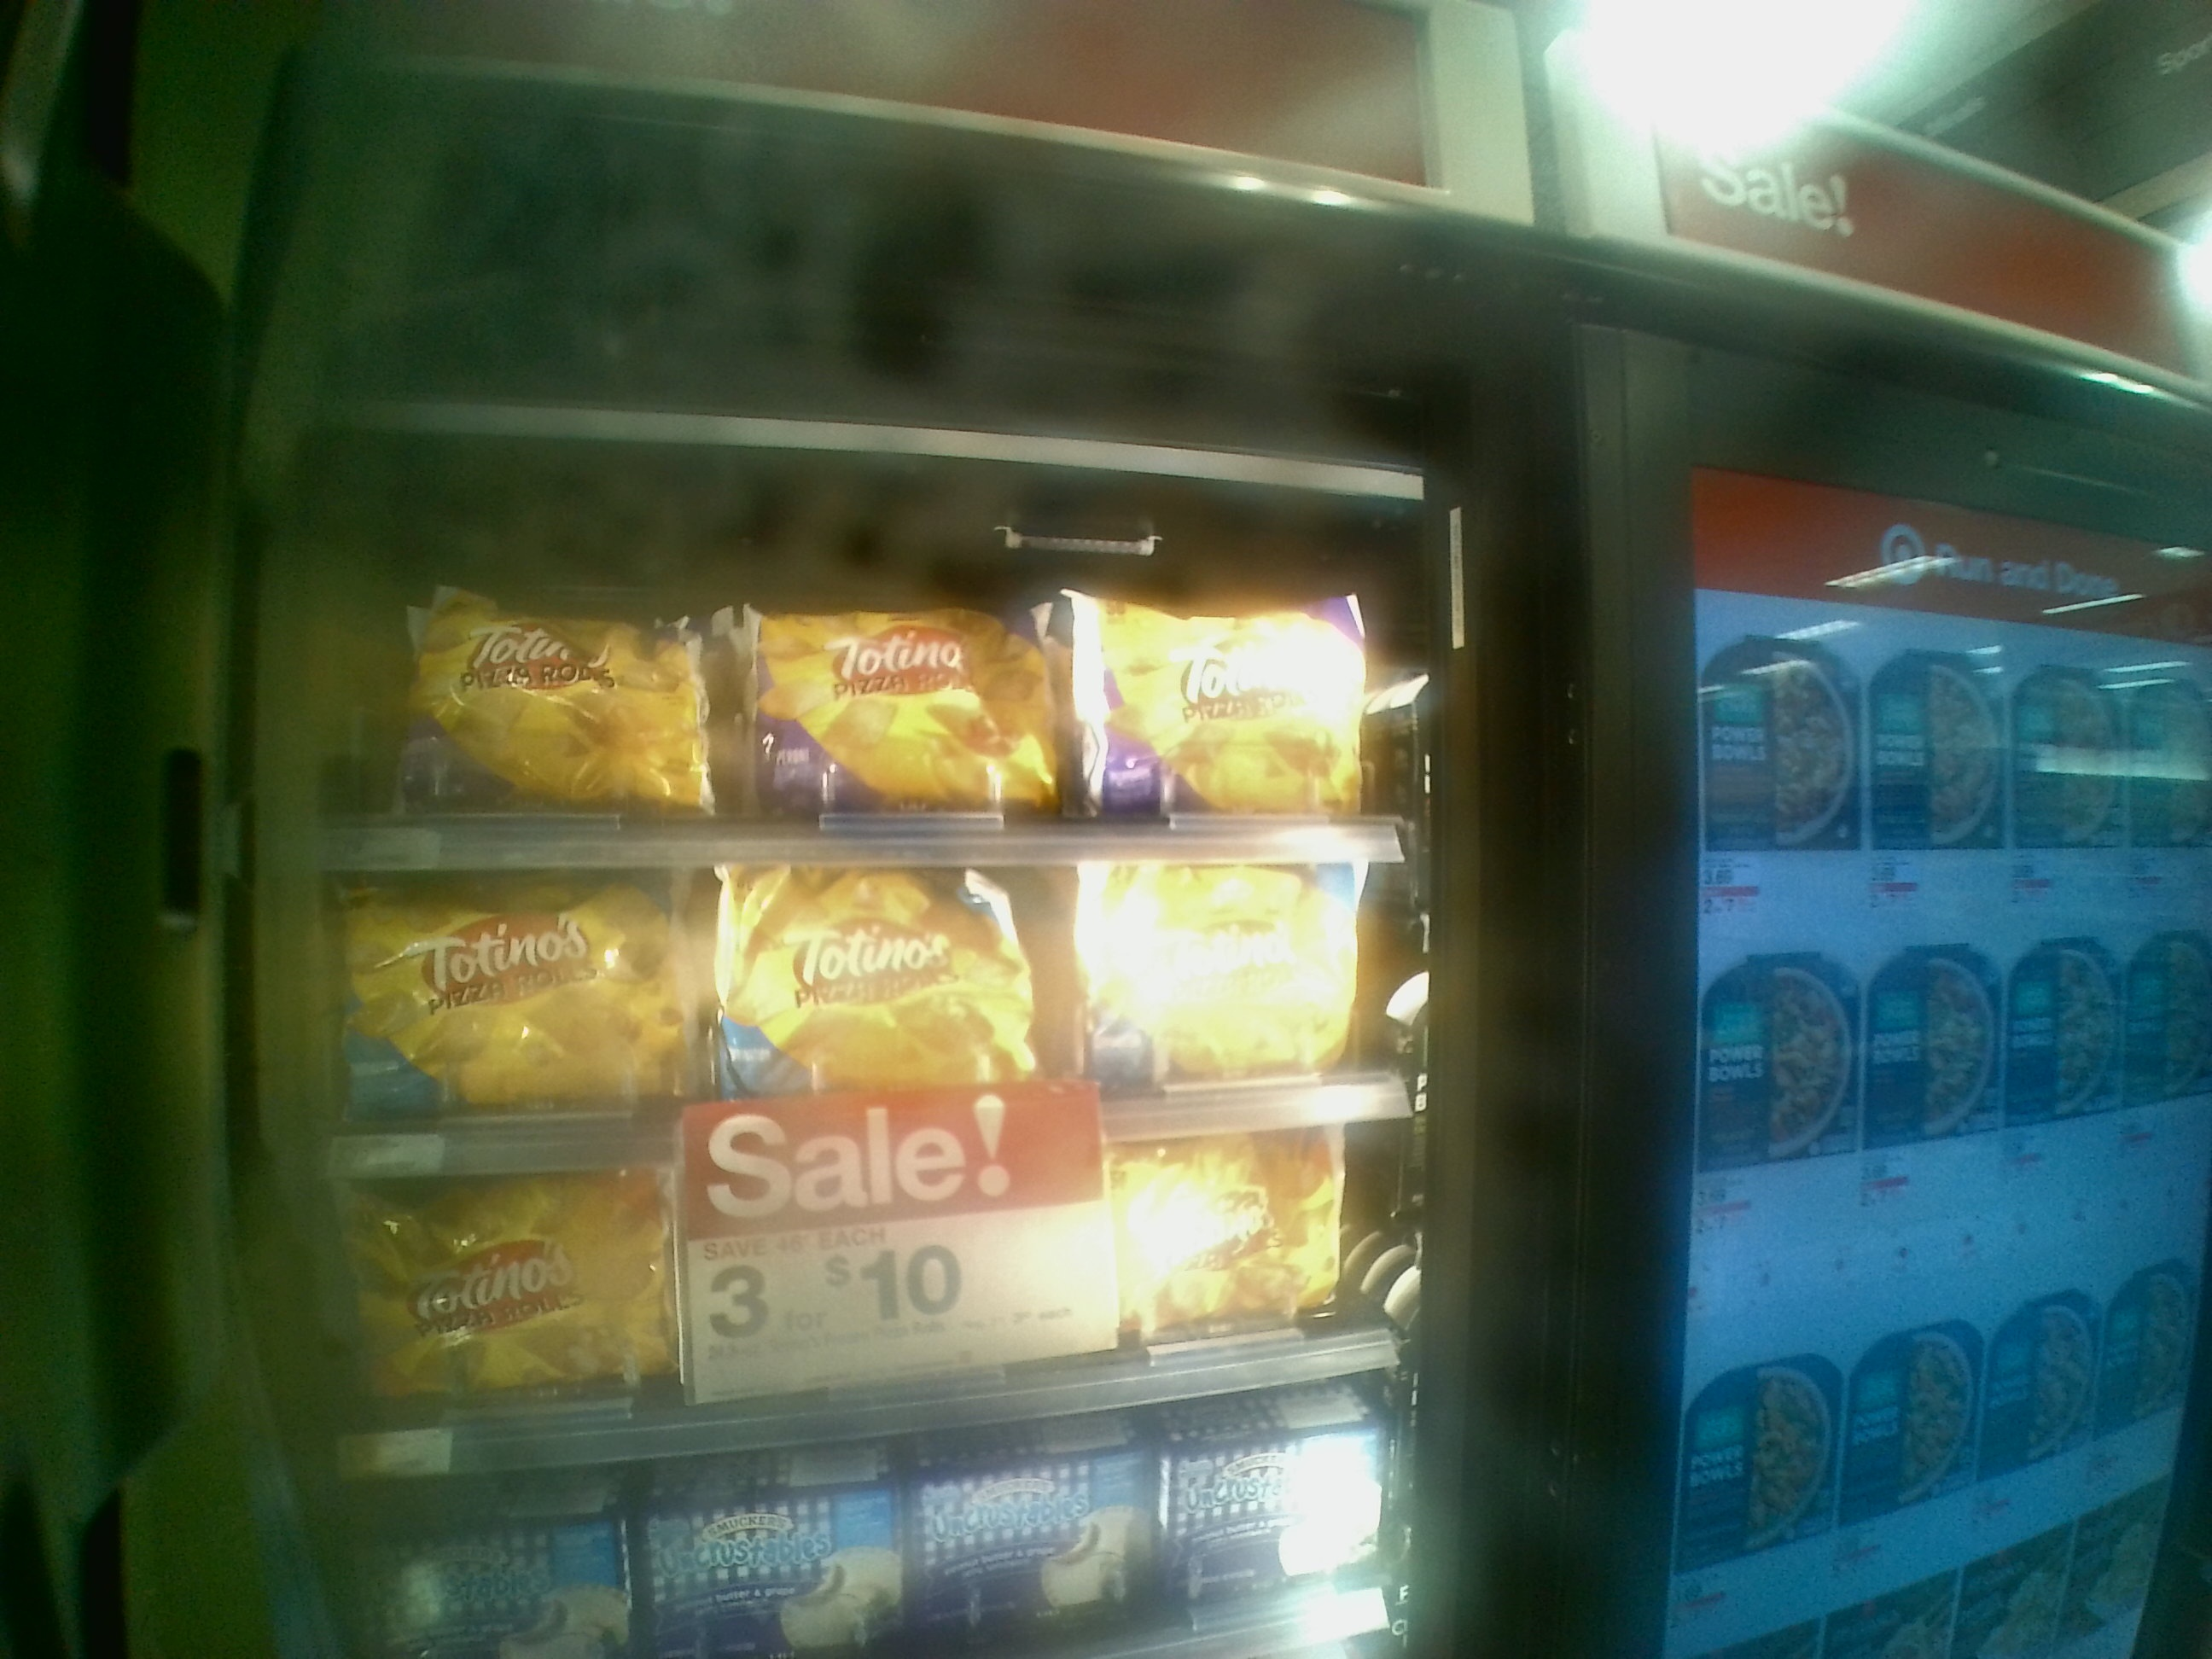shelf: (293, 859, 1418, 1134), (294, 1155, 1418, 1399)
